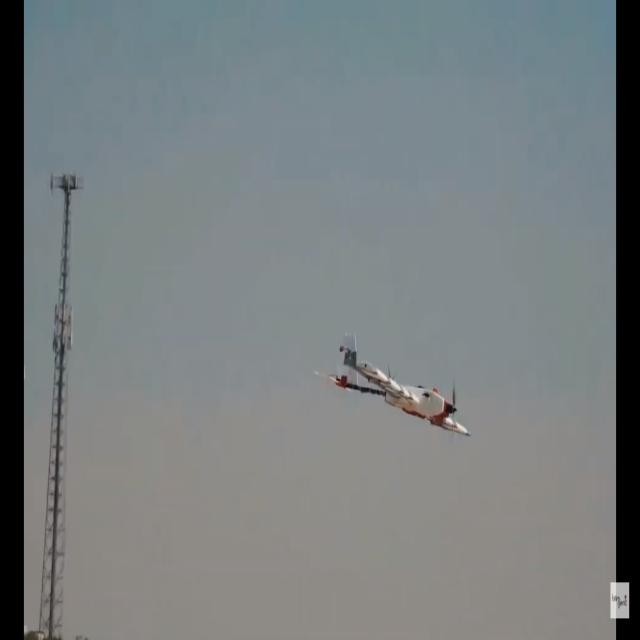iha: (306, 362, 467, 411)
